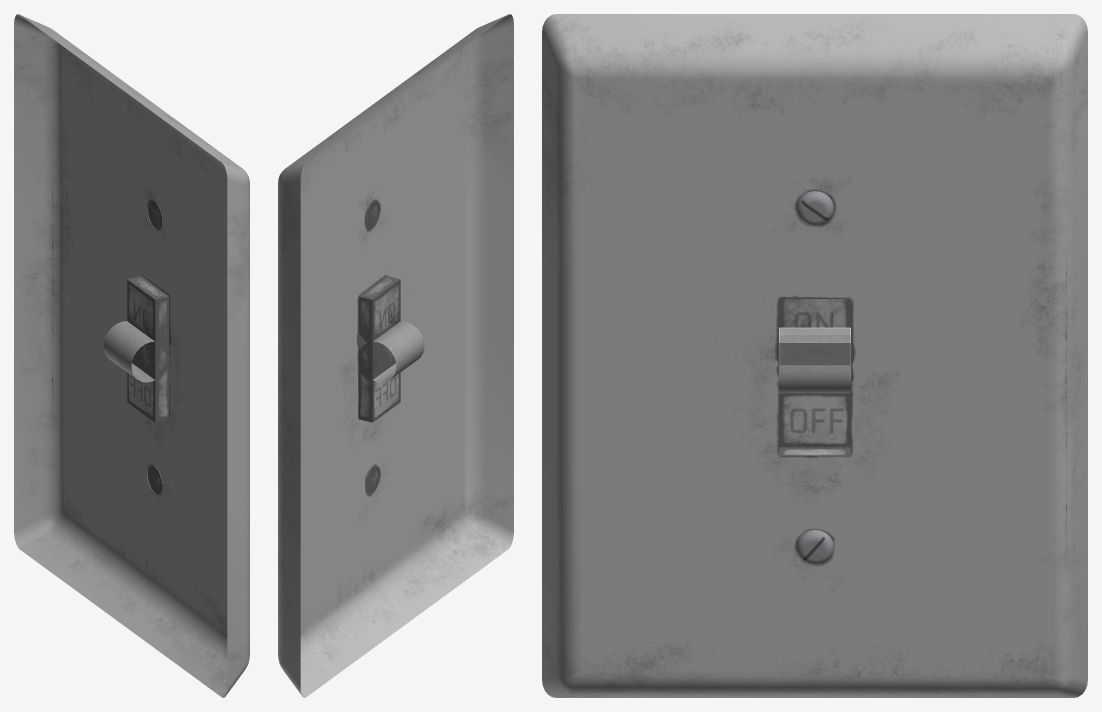
The model's file is light_switch_v2_textured.glb.
3 renders of one model, left to right at view 1: azimuth 30°, elevation 25°; view 2: azimuth 150°, elevation 25°; view 3: azimuth 270°, elevation 25°, orthographic. The views are drawn at different scales.
Visible parts, largest first — view 1: Plane, Plane.001; view 2: Plane, Plane.001; view 3: Plane, Plane.001.
Part boxes in pixels (left/top/right/bottom): Plane: left=14, top=14, right=249, bottom=697; Plane.001: left=103, top=321, right=154, bottom=382; Plane: left=278, top=14, right=513, bottom=697; Plane.001: left=358, top=321, right=424, bottom=382; Plane: left=542, top=14, right=1087, bottom=697; Plane.001: left=779, top=327, right=850, bottom=393.
Size of the model in its own units: 0.0314 by 0.2064 by 0.1493.
3 materials, 3 textured.
